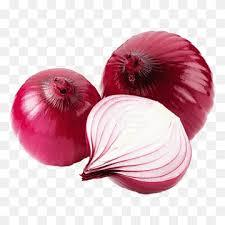non-mango: (100, 29, 215, 140), (79, 93, 192, 194), (9, 67, 101, 166)
